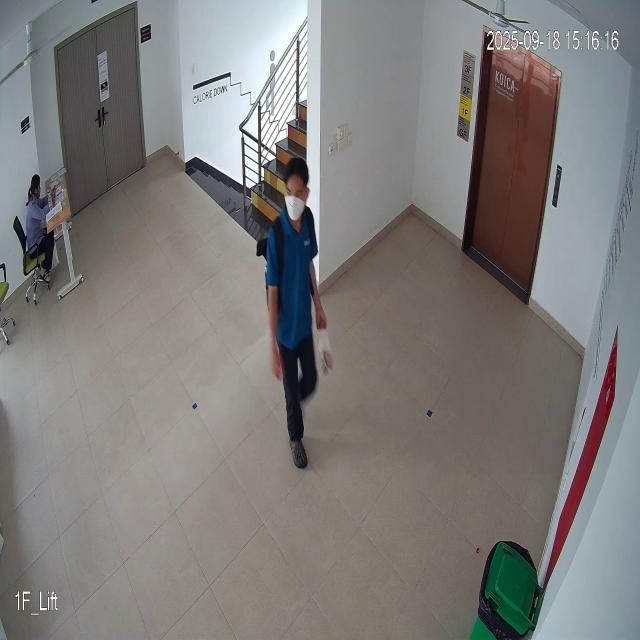face: (281, 156, 310, 227)
